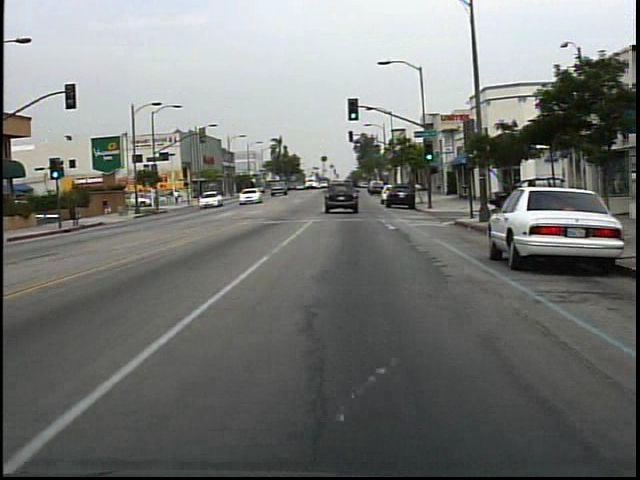person: (501, 173, 525, 228), (99, 192, 119, 220), (173, 187, 183, 208)
